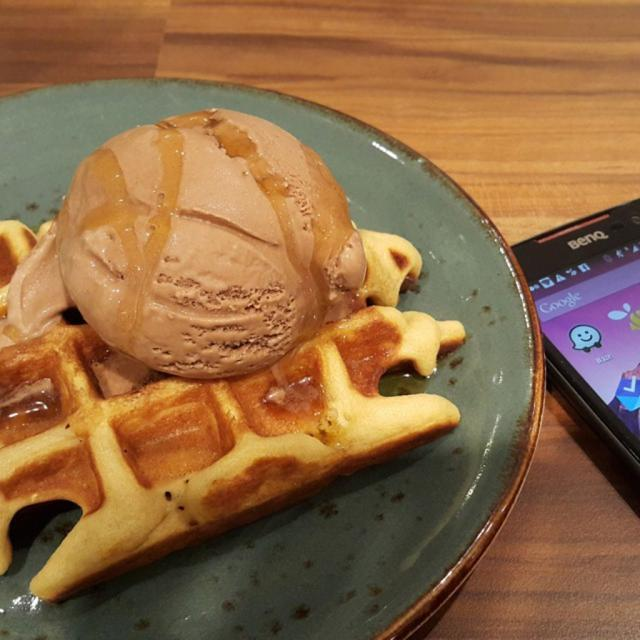Waffle: (0, 119, 474, 604)
